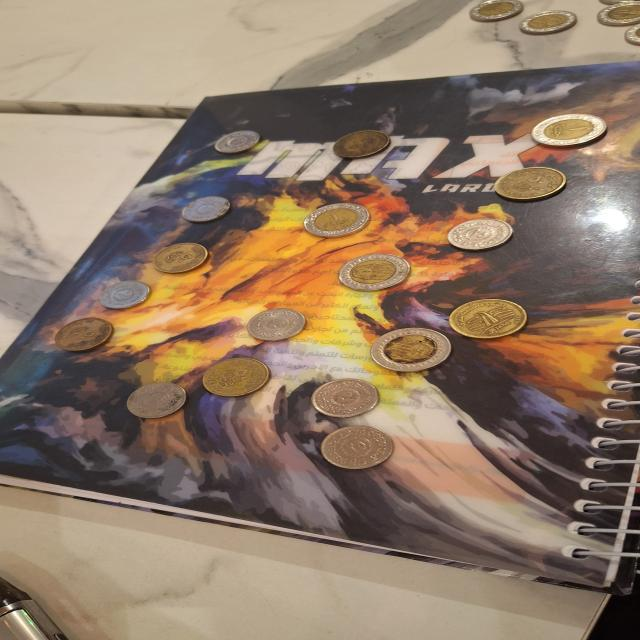Half Pound: (447, 296, 533, 342), (196, 353, 278, 401), (44, 314, 122, 358), (487, 165, 573, 204), (145, 242, 214, 274), (325, 129, 395, 159)
One Pound: (361, 324, 456, 373), (328, 251, 419, 293), (526, 110, 611, 152), (294, 202, 375, 236), (520, 8, 576, 38), (461, 0, 522, 19), (590, 3, 640, 25)
quarter pound: (315, 425, 399, 470), (308, 378, 384, 418), (444, 217, 516, 252), (244, 306, 308, 343), (125, 382, 190, 417), (95, 277, 155, 312), (177, 194, 239, 222), (213, 129, 262, 154)
